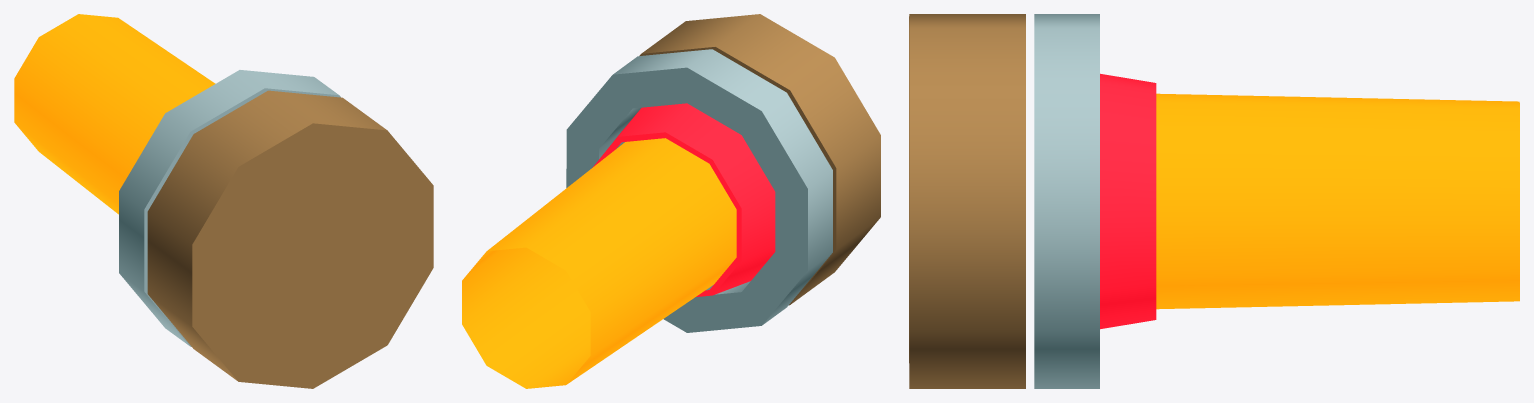
The model's file is boost.glb.
3 views of the same model, side by side, from view 1: azimuth 30°, elevation 25°; view 2: azimuth 150°, elevation 25°; view 3: azimuth 270°, elevation 25° (orthographic). The views are drawn at different scales.
Parts seen in each view (by area): view 1: boost, boost-part.001; view 2: boost, boost-part.001; view 3: boost, boost-part.001.
Boxes of the visible parts, <box> form: boost: <box>119,70,433,388</box>; boost-part.001: <box>14,14,215,214</box>; boost: <box>566,14,880,332</box>; boost-part.001: <box>462,138,736,388</box>; boost: <box>909,14,1156,388</box>; boost-part.001: <box>1156,93,1519,309</box>.
Size of the model in its own units: 0.1451 by 0.1525 by 0.2438.
